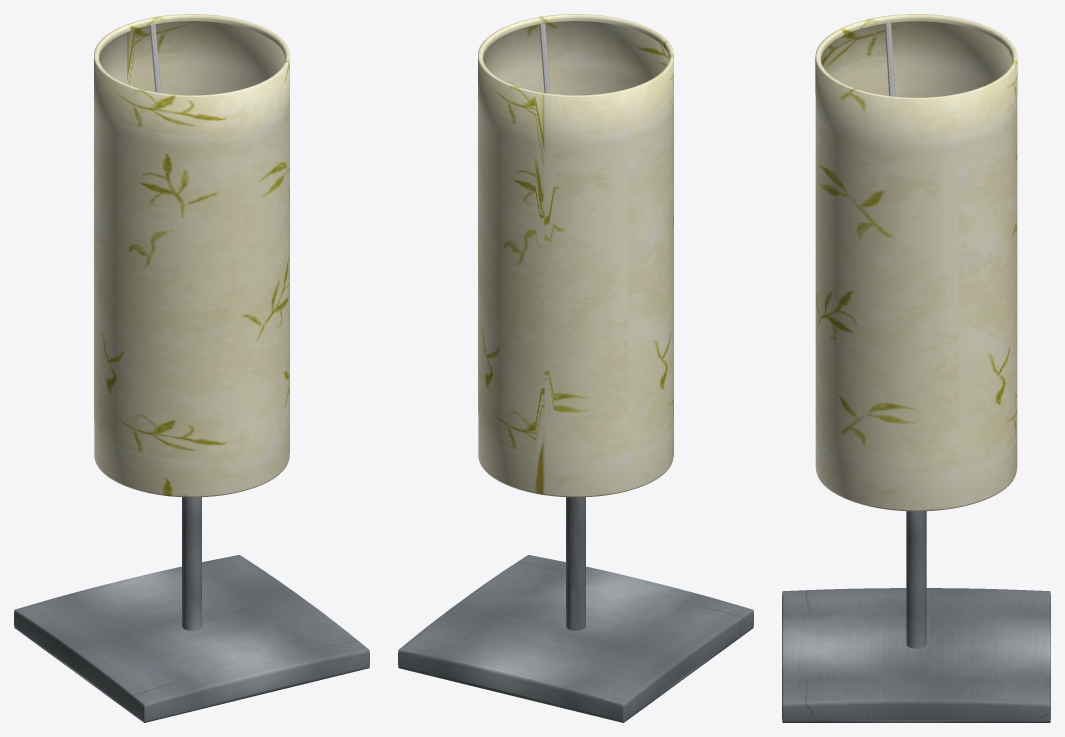
The model's file is sh_scopia_table_lamp.glb.
3 views of the same model, side by side, from view 1: azimuth 30°, elevation 25°; view 2: azimuth 150°, elevation 25°; view 3: azimuth 270°, elevation 25° (orthographic). The views are drawn at different scales.
Size of the model in its own units: 0.2 by 0.501 by 0.2.
5 materials, 2 textured.
